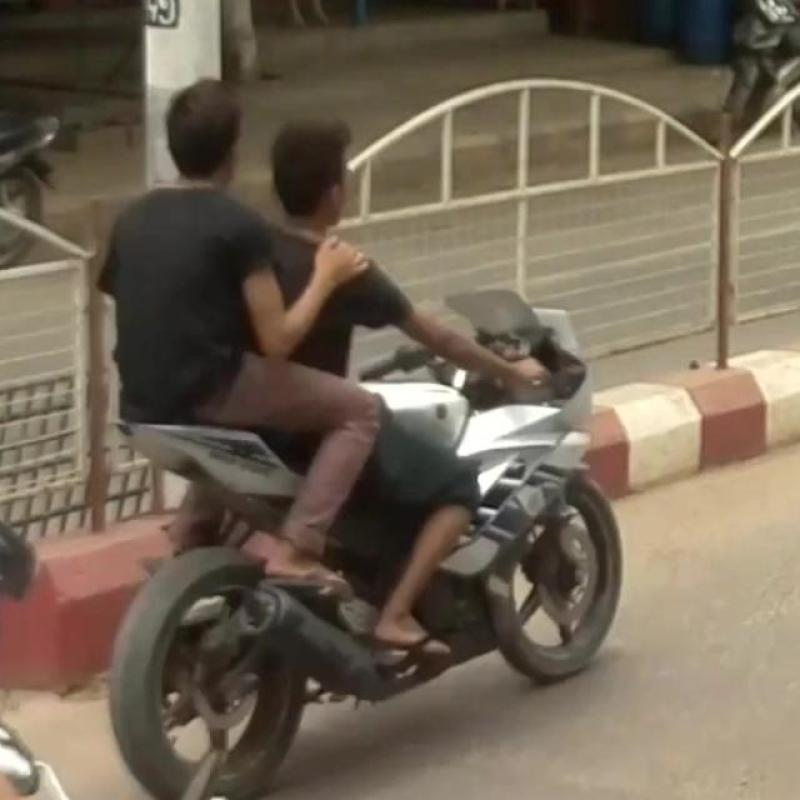nohelmet: (269, 97, 382, 260), (164, 41, 264, 194)
